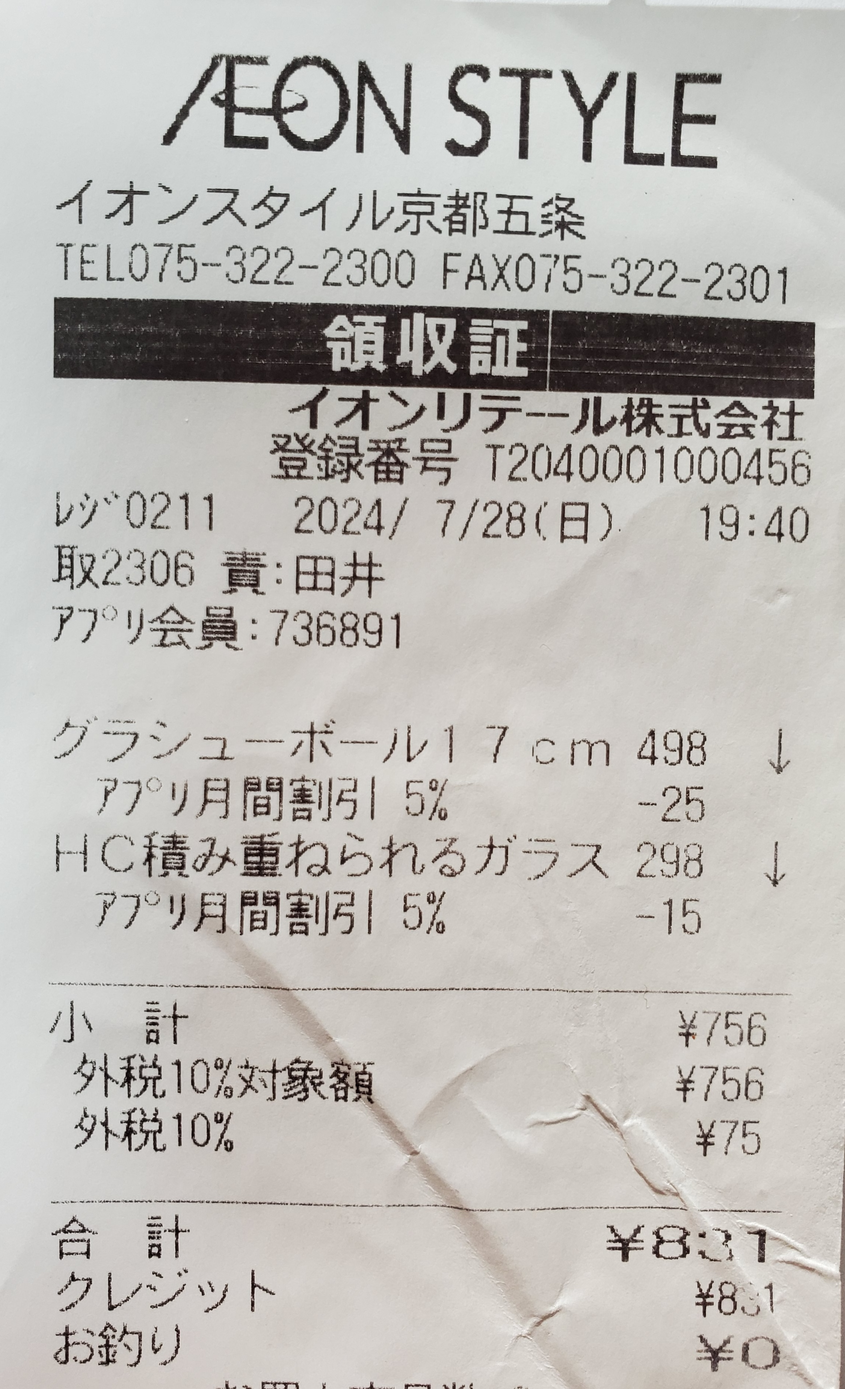Date: (286, 486, 532, 545)
Shopname: (144, 28, 764, 182)
Telnum: (124, 233, 434, 293)
Totalpay: (37, 1209, 801, 1273)
